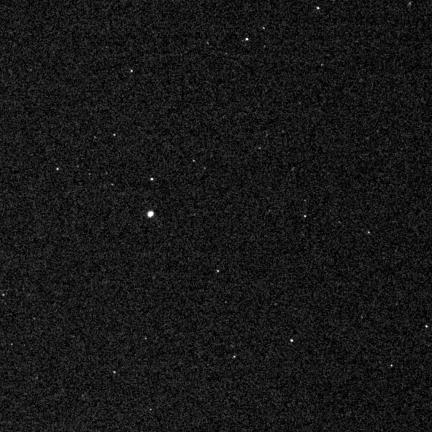blob: (147, 211, 153, 217), (290, 339, 294, 343), (150, 178, 154, 181), (245, 38, 249, 41), (57, 168, 60, 171), (131, 70, 133, 73)
